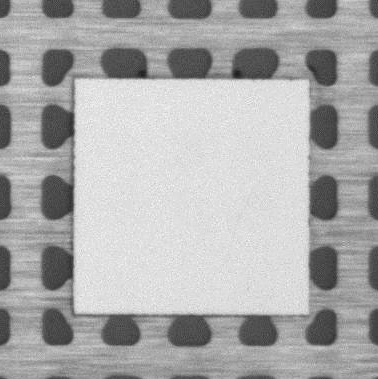DIE_CRACK: (223, 185, 257, 263)
